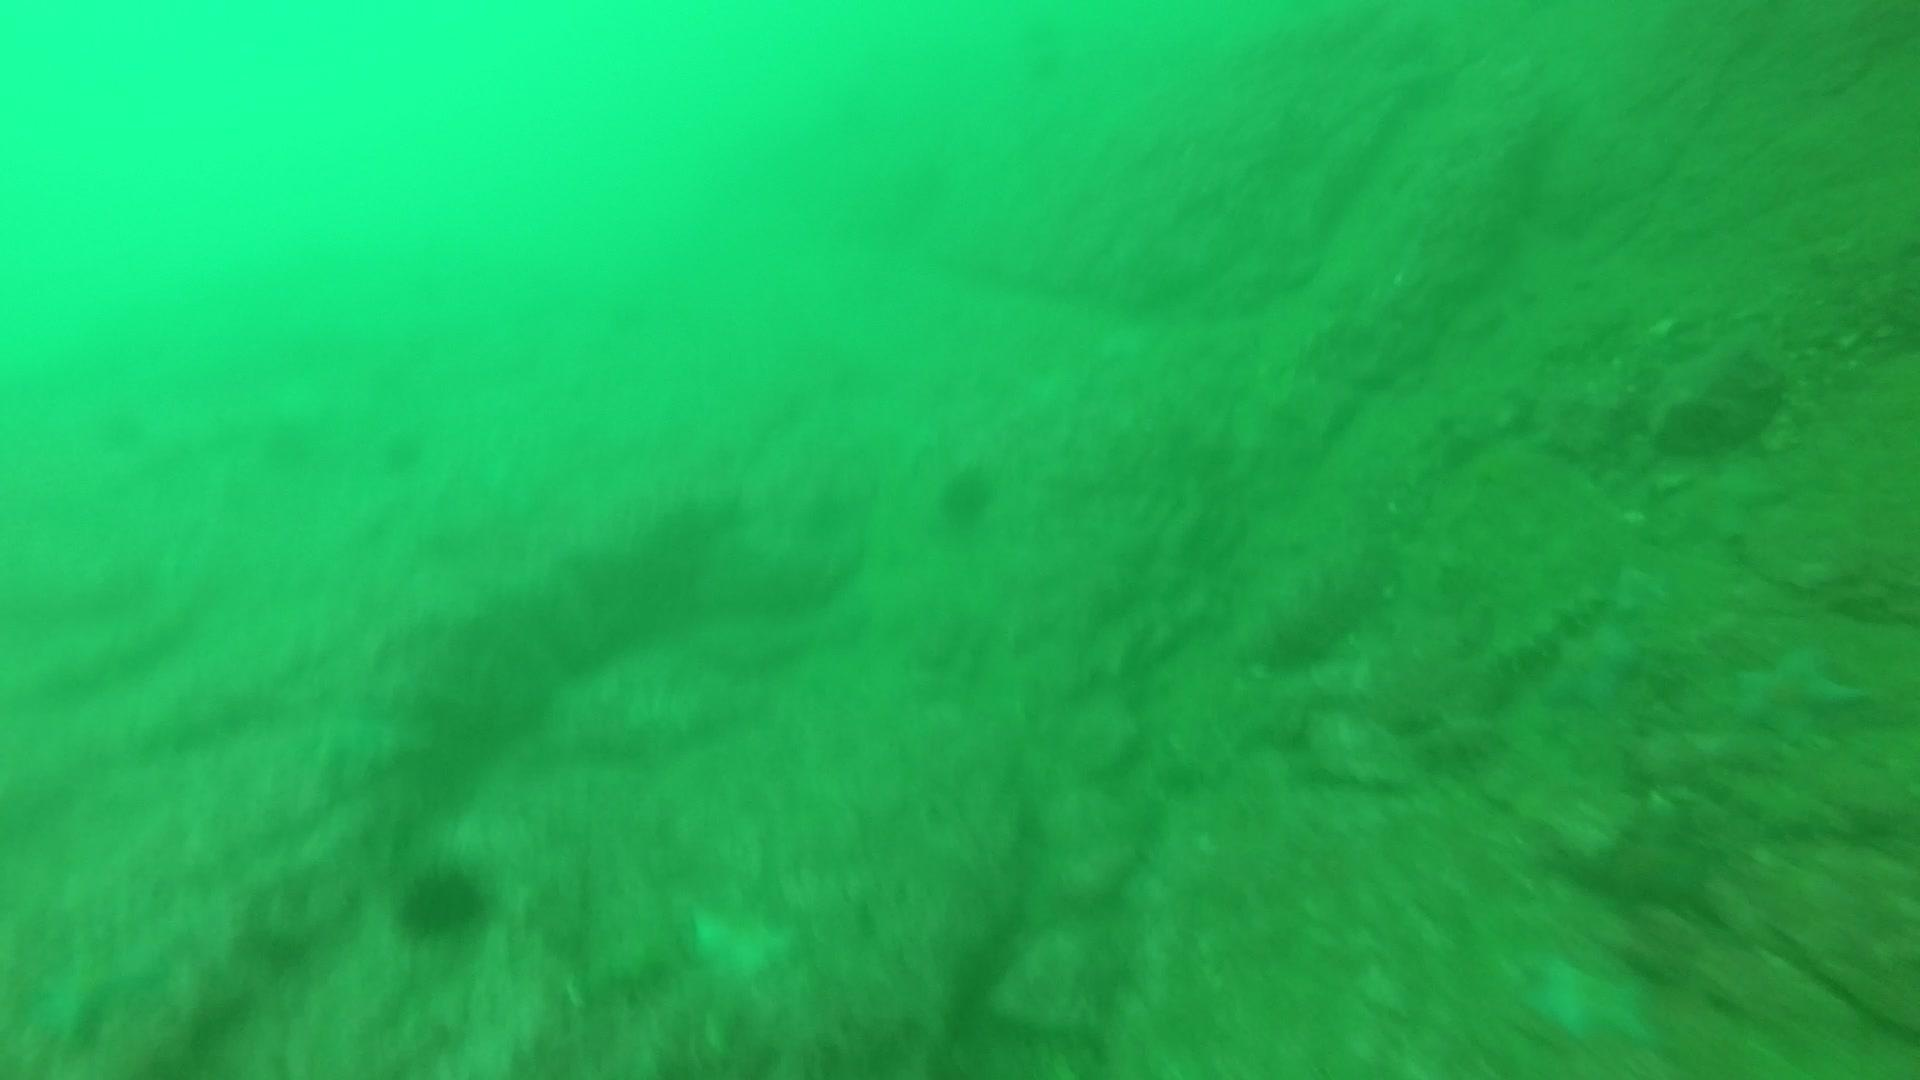echinus: (392, 855, 496, 944), (931, 458, 1002, 531), (375, 423, 431, 479)
starfish: (1514, 944, 1664, 1058), (1726, 637, 1869, 752), (1582, 814, 1720, 916), (1534, 607, 1647, 717)
